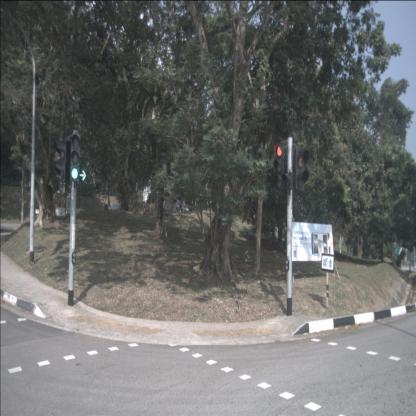vehicle-car: (104, 204, 124, 218)
